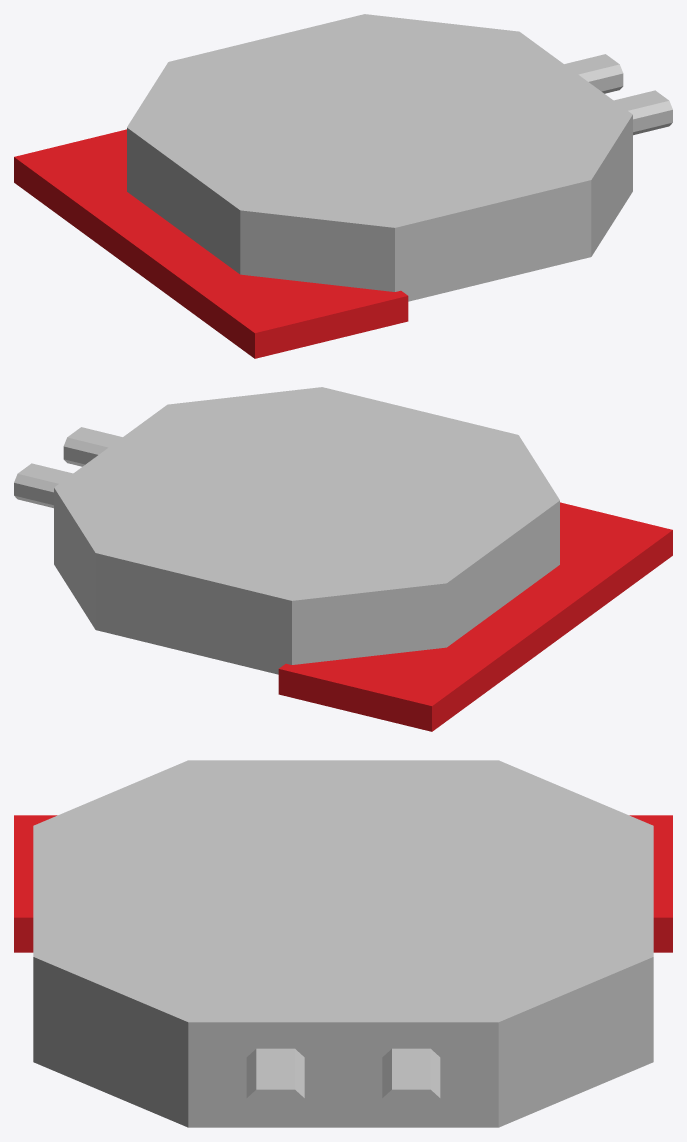
Rendered from Dockrot.dae.
3 views of the same model, one above another, from view 1: azimuth 30°, elevation 25°; view 2: azimuth 150°, elevation 25°; view 3: azimuth 270°, elevation 25° (orthographic). The views are drawn at different scales.
Parts seen in each view (by area): view 1: dockhaupt, cube19, out, in; view 2: dockhaupt, cube19, in, out; view 3: dockhaupt, cube19, in, out.
Boxes of the visible parts, bbox=[...] form: dockhaupt: bbox=[127, 14, 632, 301]; cube19: bbox=[14, 129, 408, 358]; out: bbox=[614, 90, 672, 135]; in: bbox=[564, 54, 623, 93]; dockhaupt: bbox=[54, 387, 559, 674]; cube19: bbox=[278, 502, 672, 731]; in: bbox=[14, 463, 72, 508]; out: bbox=[63, 427, 122, 466]; dockhaupt: bbox=[33, 760, 653, 1127]; cube19: bbox=[14, 815, 672, 952]; in: bbox=[382, 1048, 440, 1124]; out: bbox=[246, 1048, 304, 1124].
Bounding box in the file's own units: 5248 × 896 × 4352.
